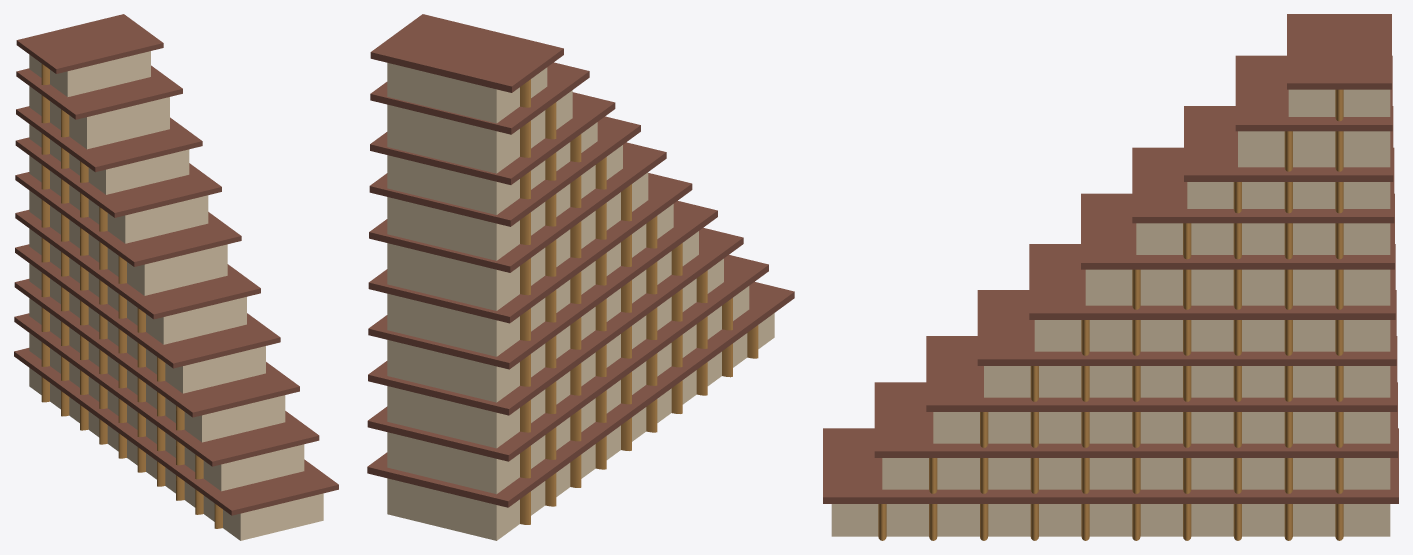
The model's file is Cat Tower.fbx.
3 views of the same model, side by side, from view 1: azimuth 30°, elevation 25°; view 2: azimuth 150°, elevation 25°; view 3: azimuth 270°, elevation 25° (orthographic). The views are drawn at different scales.
Parts seen in each view (by area): view 1: Cat Tower; view 2: Cat Tower; view 3: Cat Tower.
Boxes of the visible parts, left/top/right/bottom form: Cat Tower: left=14, top=14, right=338, bottom=540; Cat Tower: left=367, top=14, right=794, bottom=540; Cat Tower: left=823, top=14, right=1398, bottom=540.
Size of the model in its own units: 20.64 by 64.13 by 72.58.
